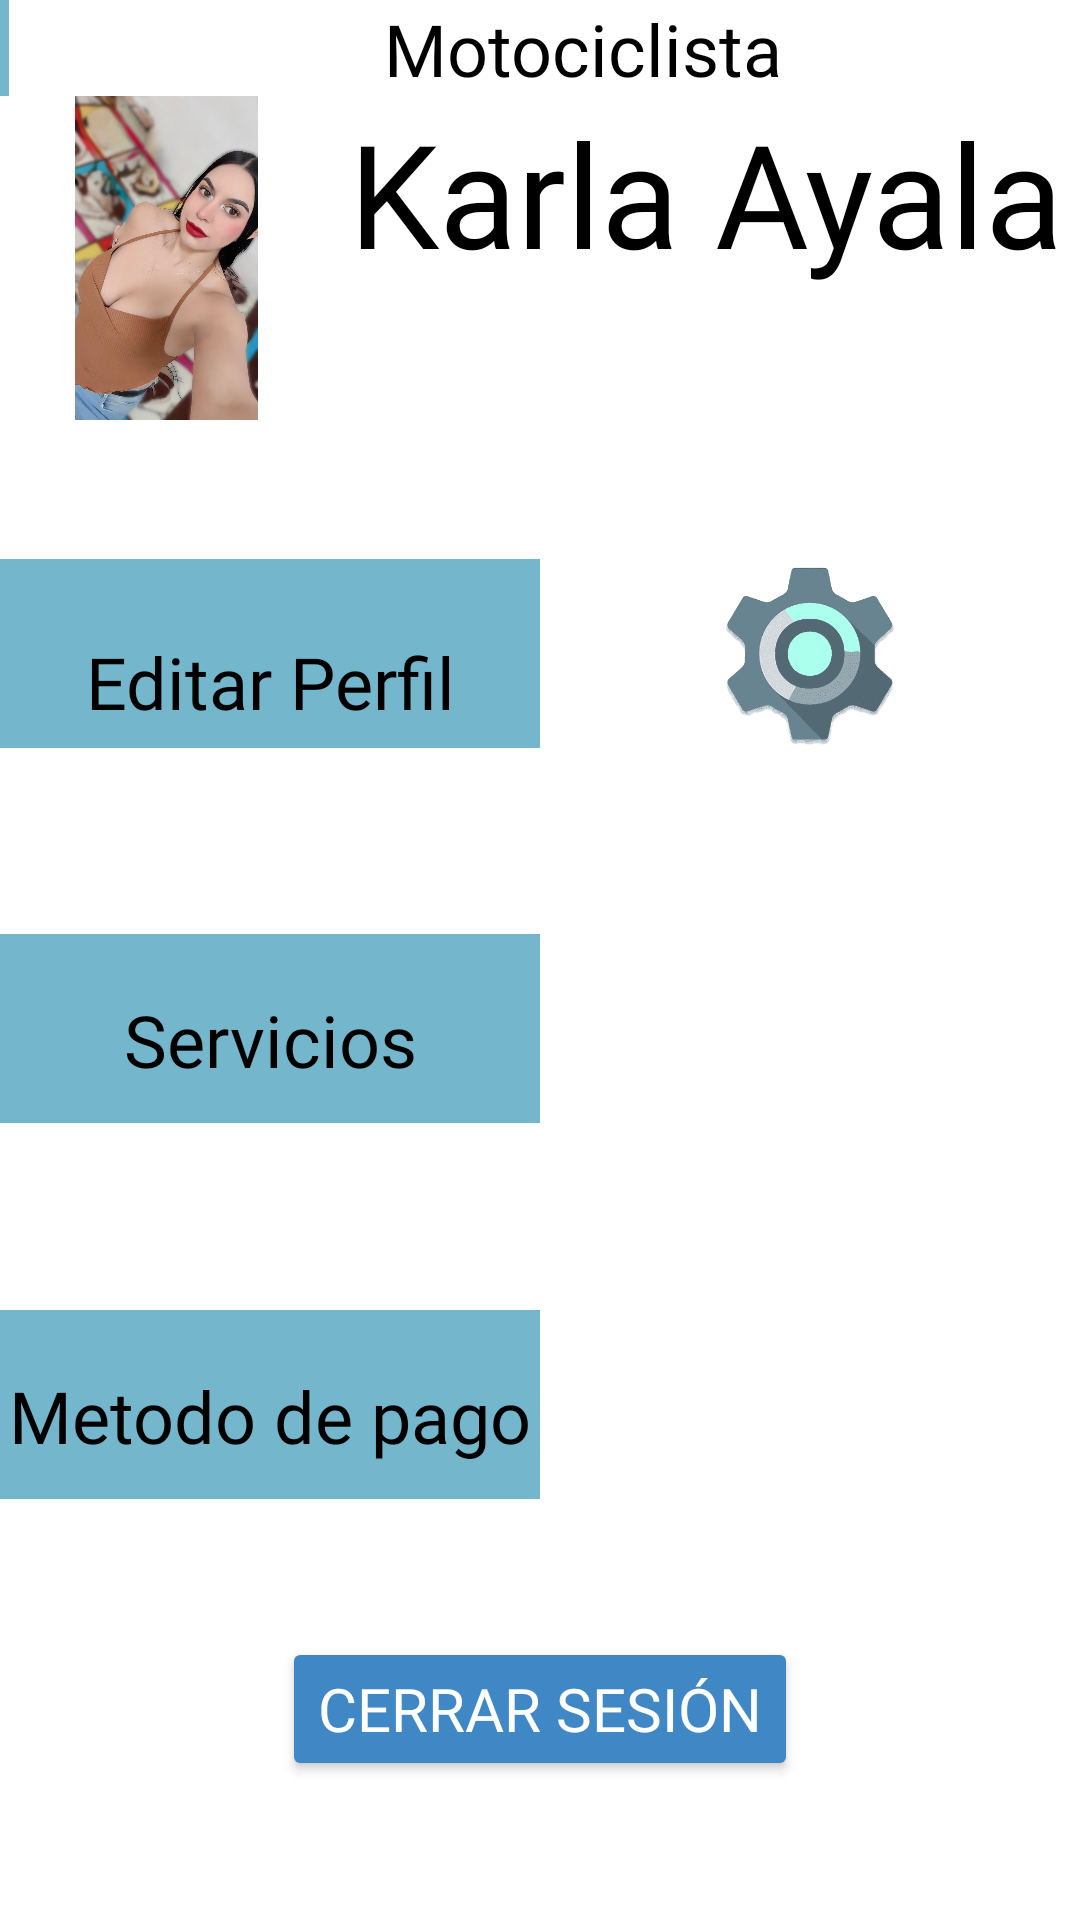

Where icons sit on this 1080*1920 app screen, as (x1, y1, x2, y2):
config: (726, 568, 894, 744)
